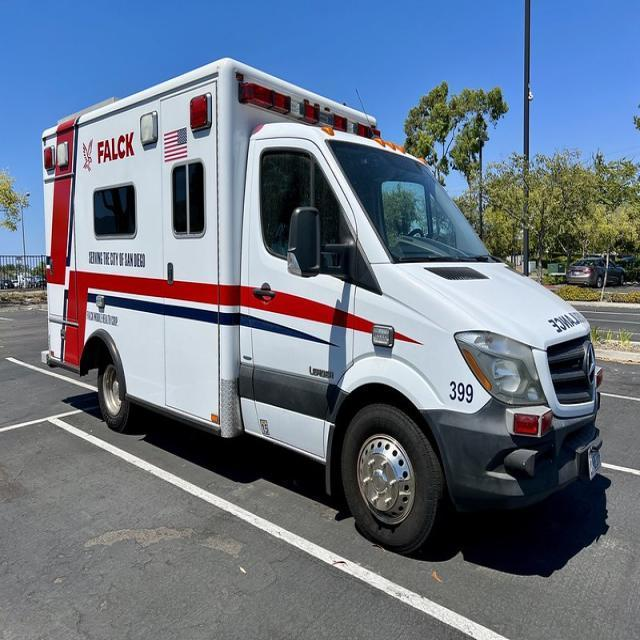emergency: (221, 50, 603, 558)
